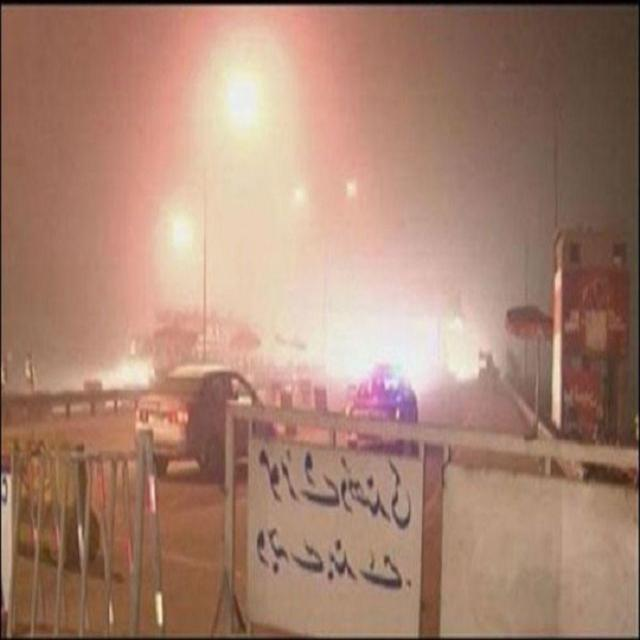Car: (130, 366, 276, 494), (350, 353, 424, 434)
